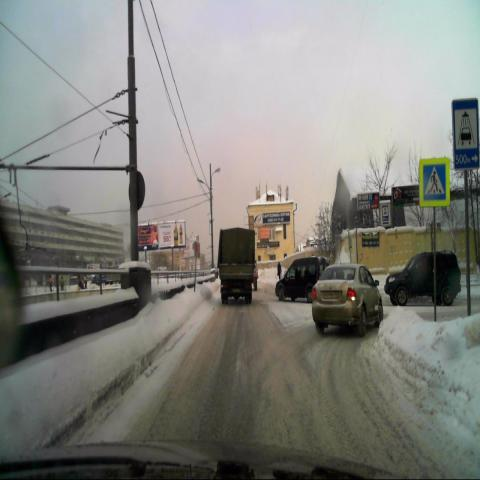5_19_1: (420, 159, 450, 204)
7_5: (454, 98, 479, 168)
